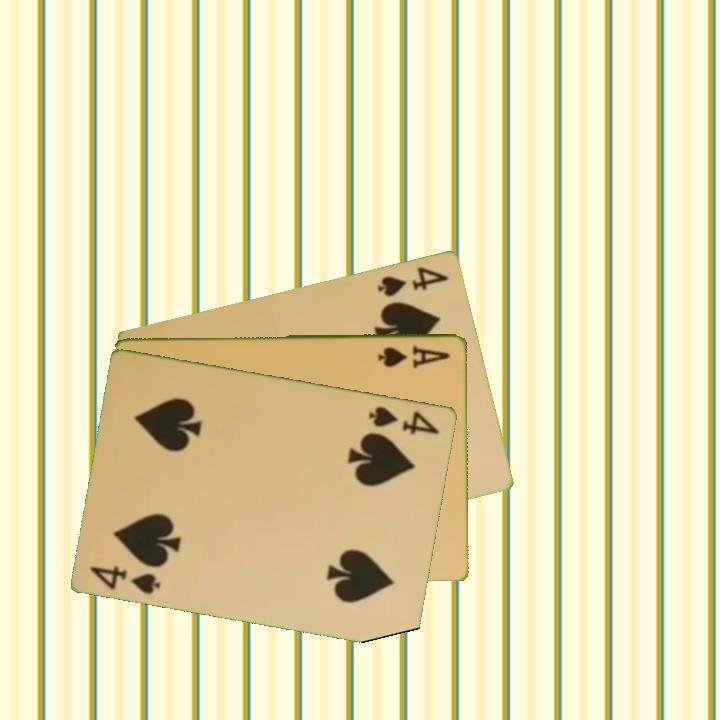4s: (374, 262, 452, 299), (86, 561, 164, 597), (365, 402, 442, 438)
As: (375, 342, 454, 371)
